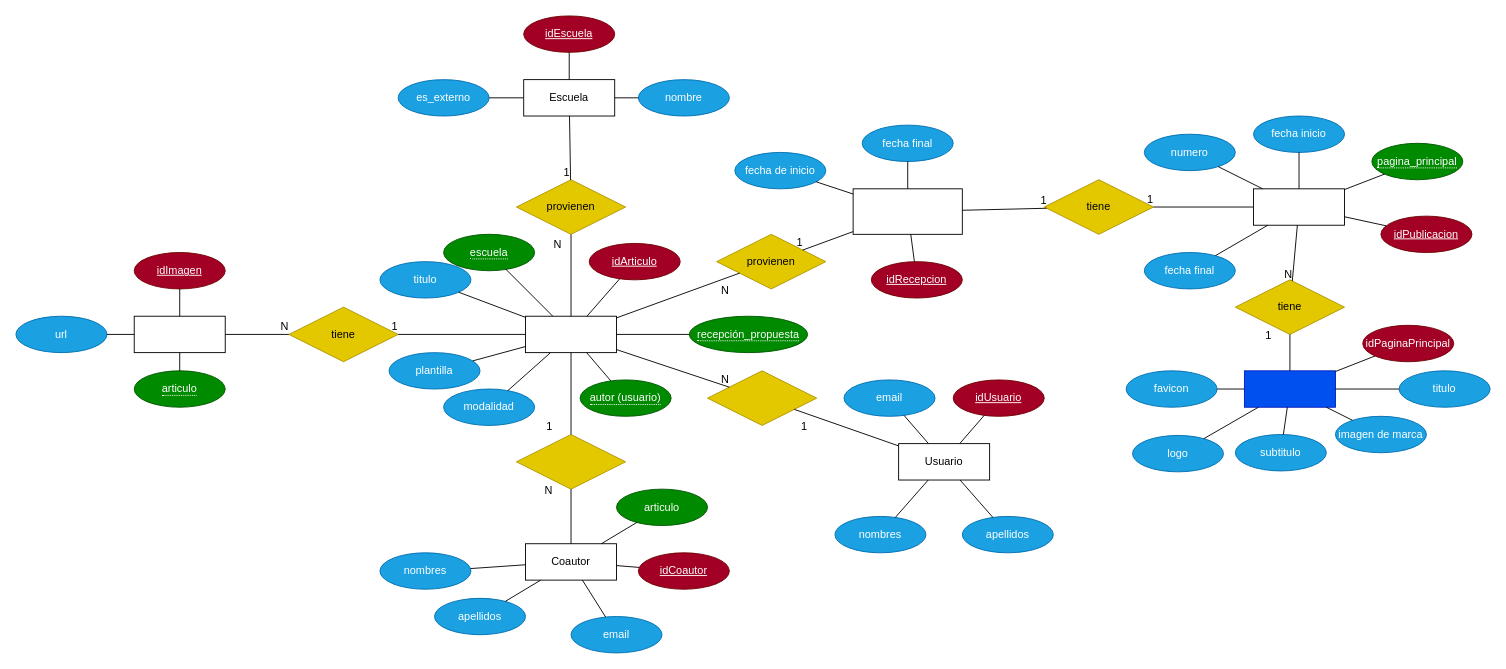
Some shapes in this 1506 by 669 pixel diagram are drawn without their labels. The shapes that lost their labels are listed below. From the top down, each one's centre as x and y in pixels, then its label:
the point at 907,211: Recepción de propuestas de articulos
the point at 1299,206: Publicacion
the point at 179,334: Imagenes
the point at 571,334: Propuesta de articulo
the point at 762,397: pertenecen
the point at 1289,388: Pagina Principal
the point at 571,461: participan
